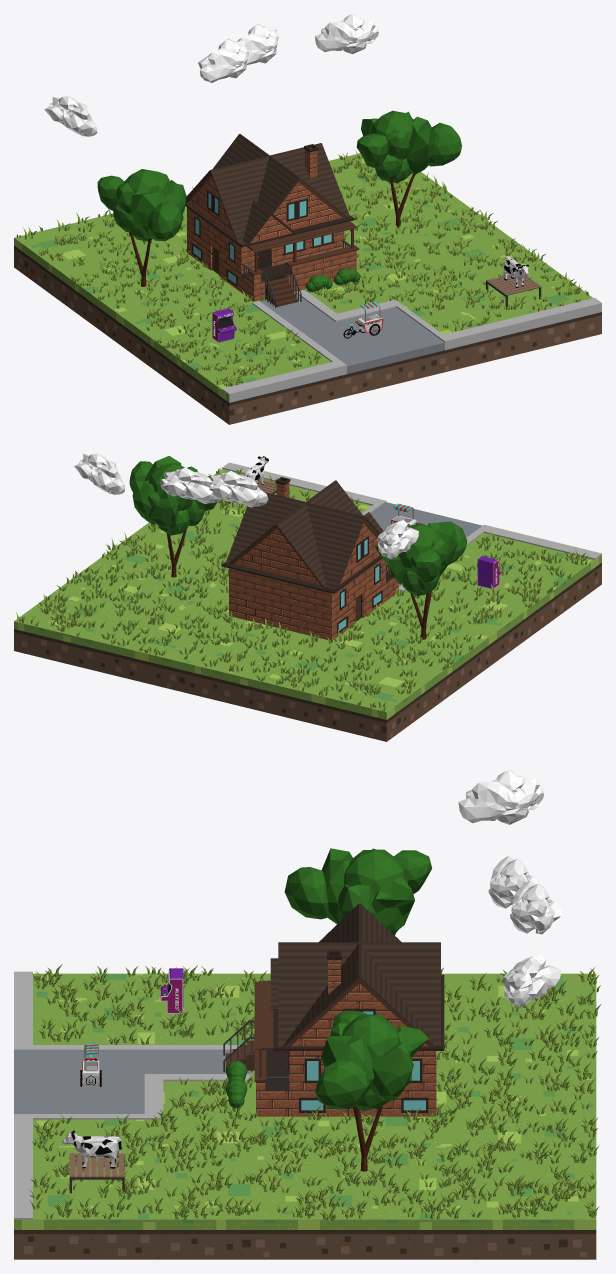
3 renders of one model, top to bottom at view 1: azimuth 30°, elevation 25°; view 2: azimuth 150°, elevation 25°; view 3: azimuth 270°, elevation 25°, orthographic. The views are drawn at different scales.
Parts seen in each view (by area): view 1: Cube.006, Cube.469, Circle.012_Grass_0.192, Cube.007, tree, tree.001, Cube.009, OBJRANDOM_ARCADE, VEHICLES_SNOWBAL_BIKE; view 2: Cube.006, Cube.469, Circle.012_Grass_0.192, Cube.007, tree.001, tree, OBJRANDOM_ARCADE; view 3: Cube.006, Circle.012_Grass_0.192, Cube.469, tree, Cube.007, tree.001, Cube.009, ANIMAL_VACA, OBJRANDOM_ARCADE, VEHICLES_SNOWBAL_BIKE.
Boxes of the visible parts, left/top/right/bottom form: Cube.006: left=14, top=153, right=601, bottom=424; Cube.469: left=185, top=134, right=359, bottom=308; Circle.012_Grass_0.192: left=16, top=150, right=588, bottom=386; Cube.007: left=44, top=14, right=378, bottom=136; tree: left=356, top=110, right=461, bottom=228; tree.001: left=97, top=169, right=186, bottom=286; Cube.009: left=486, top=274, right=541, bottom=306; OBJRANDOM_ARCADE: left=212, top=308, right=236, bottom=342; VEHICLES_SNOWBAL_BIKE: left=343, top=301, right=383, bottom=338; Cube.006: left=14, top=462, right=601, bottom=741; Cube.469: left=221, top=477, right=398, bottom=640; Circle.012_Grass_0.192: left=16, top=468, right=588, bottom=711; Cube.007: left=74, top=453, right=418, bottom=559; tree.001: left=375, top=521, right=467, bottom=639; tree: left=129, top=456, right=216, bottom=577; OBJRANDOM_ARCADE: left=477, top=555, right=501, bottom=588; Cube.006: left=14, top=971, right=596, bottom=1259; Circle.012_Grass_0.192: left=29, top=964, right=601, bottom=1220; Cube.469: left=223, top=903, right=444, bottom=1116; tree: left=315, top=1010, right=428, bottom=1171; Cube.007: left=458, top=770, right=561, bottom=1007; tree.001: left=284, top=848, right=432, bottom=935; Cube.009: left=69, top=1153, right=124, bottom=1193; ANIMAL_VACA: left=62, top=1130, right=121, bottom=1168; OBJRANDOM_ARCADE: left=160, top=968, right=183, bottom=1013; VEHICLES_SNOWBAL_BIKE: left=80, top=1043, right=102, bottom=1086.
Bounding box in the file's own units: 4071 × 2192 × 4040.
Materials: 37 (4 with a texture image).
